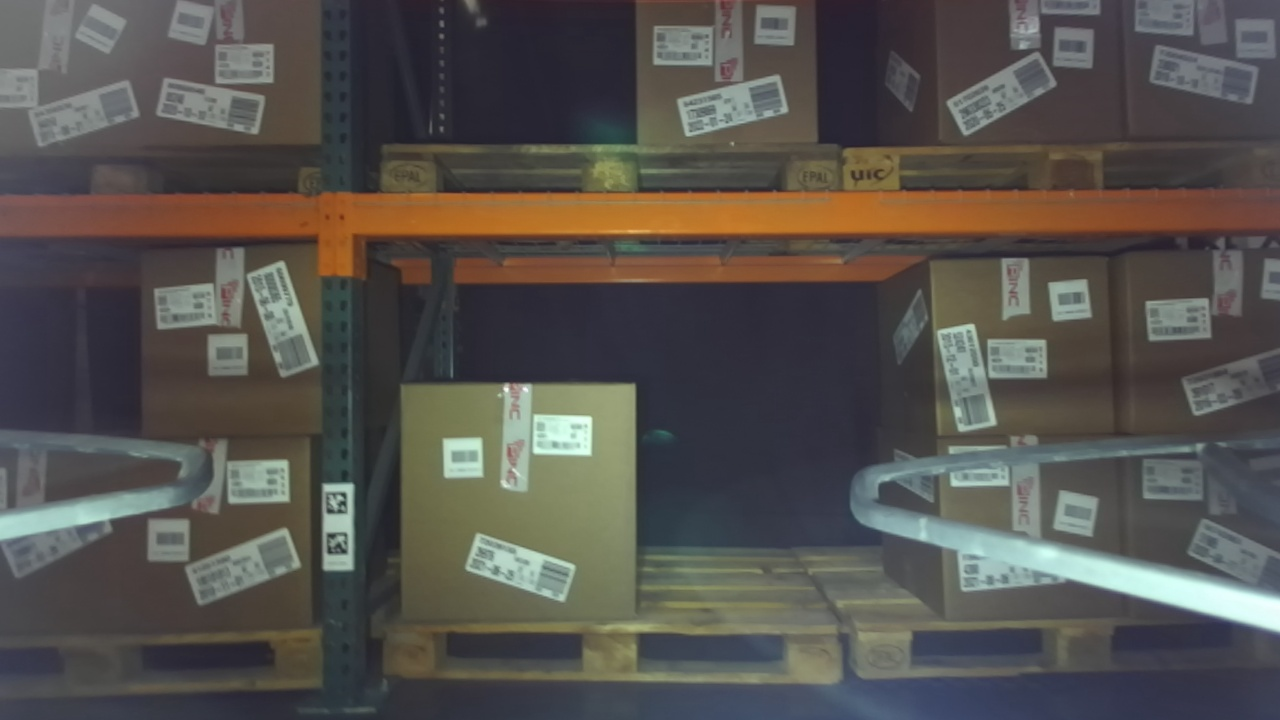box: (383, 365, 680, 651), (892, 421, 1160, 647), (108, 219, 352, 454), (108, 426, 352, 657), (894, 236, 1137, 463), (1094, 406, 1280, 648), (1084, 228, 1280, 448), (612, 1, 844, 178), (141, 1, 343, 164), (2, 1, 166, 177)
